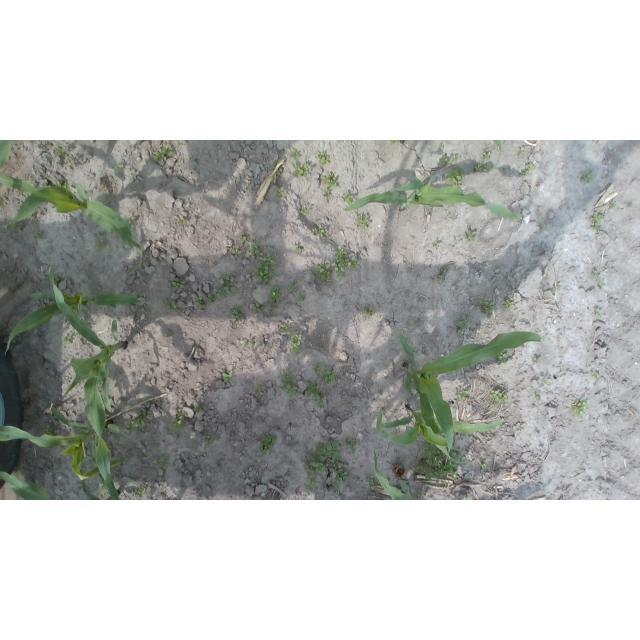Maize: (397, 327, 544, 463), (48, 263, 129, 500), (0, 174, 144, 271), (5, 289, 163, 354), (0, 406, 118, 477), (344, 176, 521, 221), (375, 403, 505, 460), (0, 458, 124, 500), (401, 140, 504, 172), (0, 140, 92, 168), (372, 450, 417, 500)
Weeds: (417, 443, 462, 481), (305, 437, 340, 478), (252, 263, 275, 285), (445, 163, 466, 187), (281, 369, 299, 397), (263, 286, 284, 309), (219, 273, 237, 296), (476, 299, 496, 319), (153, 143, 174, 162), (313, 262, 332, 282), (259, 434, 277, 455), (573, 396, 590, 418), (292, 160, 312, 178), (172, 408, 187, 432), (124, 419, 146, 434), (589, 212, 605, 231), (489, 388, 508, 404), (341, 439, 361, 454), (290, 332, 303, 355), (320, 172, 338, 188), (231, 304, 245, 324), (123, 213, 137, 232), (154, 454, 171, 469), (260, 252, 277, 267), (357, 213, 372, 229), (315, 151, 330, 166), (433, 268, 447, 284), (458, 316, 474, 329), (363, 303, 376, 319), (312, 223, 326, 237), (365, 475, 378, 490), (165, 299, 180, 312), (171, 278, 186, 291), (342, 191, 355, 205), (324, 370, 337, 384), (306, 381, 318, 396), (248, 241, 260, 256), (497, 348, 508, 364), (502, 298, 515, 311), (456, 387, 468, 401), (336, 468, 350, 480), (314, 393, 326, 407), (208, 290, 222, 302), (54, 144, 66, 157), (582, 171, 595, 183), (307, 478, 320, 490), (288, 279, 300, 292), (275, 186, 287, 198), (44, 424, 56, 436), (61, 335, 74, 346), (464, 231, 477, 242), (223, 370, 234, 383), (232, 246, 243, 259), (11, 222, 26, 231), (254, 382, 265, 394), (315, 363, 326, 375), (439, 154, 449, 167), (195, 296, 205, 309), (474, 164, 490, 172), (137, 485, 148, 496), (482, 148, 492, 160), (241, 339, 253, 349), (237, 232, 247, 244), (96, 239, 108, 249), (292, 242, 302, 253), (54, 180, 66, 189), (300, 206, 312, 215), (590, 371, 602, 380), (41, 178, 51, 188), (204, 435, 214, 445), (251, 303, 261, 313), (291, 149, 300, 160), (526, 162, 537, 171), (595, 309, 604, 320), (281, 324, 292, 333), (113, 163, 123, 172), (323, 187, 332, 197), (591, 270, 601, 279), (432, 239, 441, 249), (532, 357, 543, 365), (331, 479, 339, 490), (275, 167, 282, 179), (519, 170, 531, 177), (610, 201, 619, 210), (536, 391, 545, 400), (412, 347, 421, 356), (296, 293, 305, 302), (35, 231, 44, 240), (64, 155, 74, 163), (540, 221, 548, 231), (177, 216, 187, 224), (479, 460, 489, 468), (193, 404, 203, 412), (517, 146, 525, 155), (541, 379, 551, 386), (139, 408, 147, 416), (27, 212, 35, 220), (439, 429, 446, 438), (463, 494, 473, 500), (165, 330, 173, 337), (598, 283, 606, 290), (268, 312, 276, 319), (390, 141, 401, 146), (438, 143, 444, 152), (53, 274, 59, 283), (96, 229, 104, 235), (272, 161, 278, 168), (406, 321, 412, 328), (378, 389, 385, 395), (484, 430, 491, 436), (395, 428, 402, 434), (150, 446, 158, 451), (553, 287, 558, 295), (40, 358, 45, 365), (387, 477, 392, 483), (453, 155, 458, 160), (270, 343, 275, 348), (478, 326, 484, 330), (0, 199, 2, 210), (75, 331, 79, 335)
